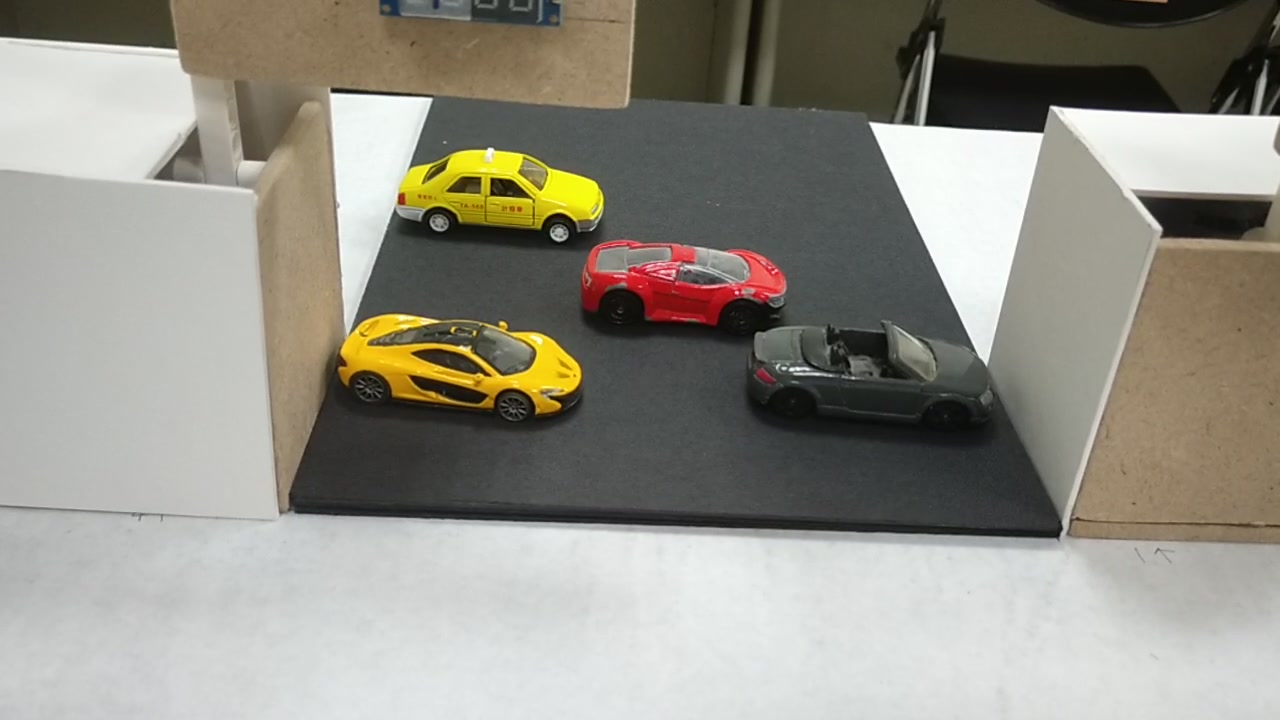car: (336, 311, 581, 424), (751, 328, 991, 422), (393, 149, 605, 236), (577, 245, 785, 330)
